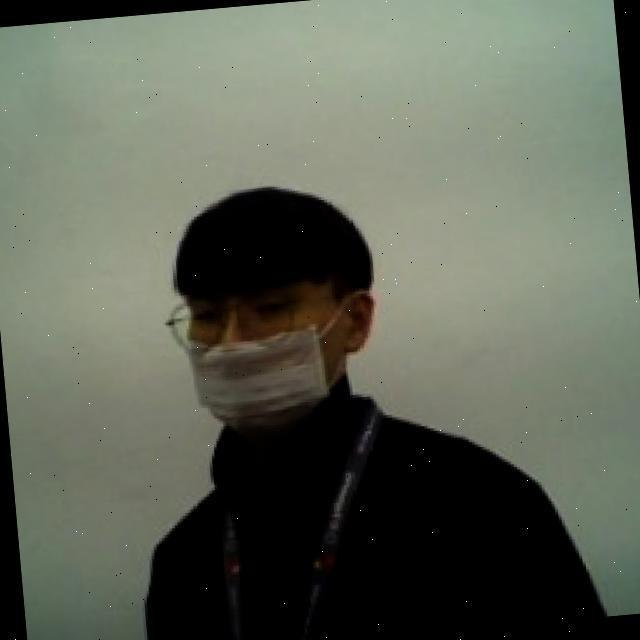mask: (170, 318, 360, 452)
no_gloves: (157, 174, 380, 325)
